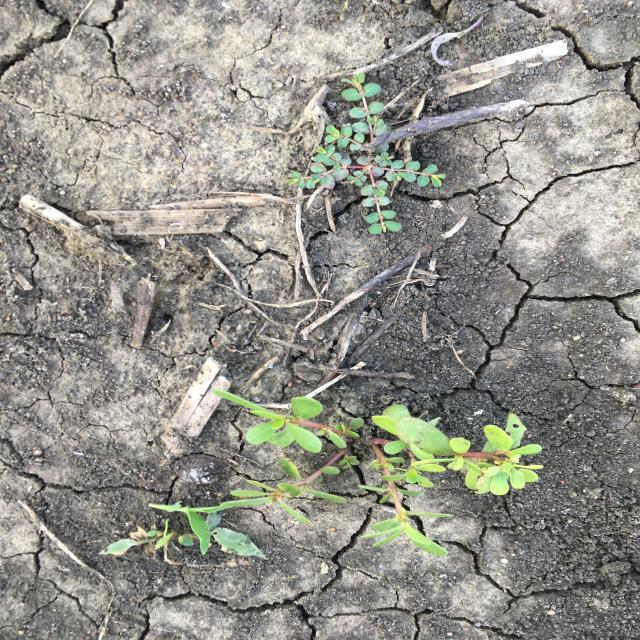Purslane: (200, 388, 547, 558)
SpottedSpurge: (284, 70, 449, 237)
